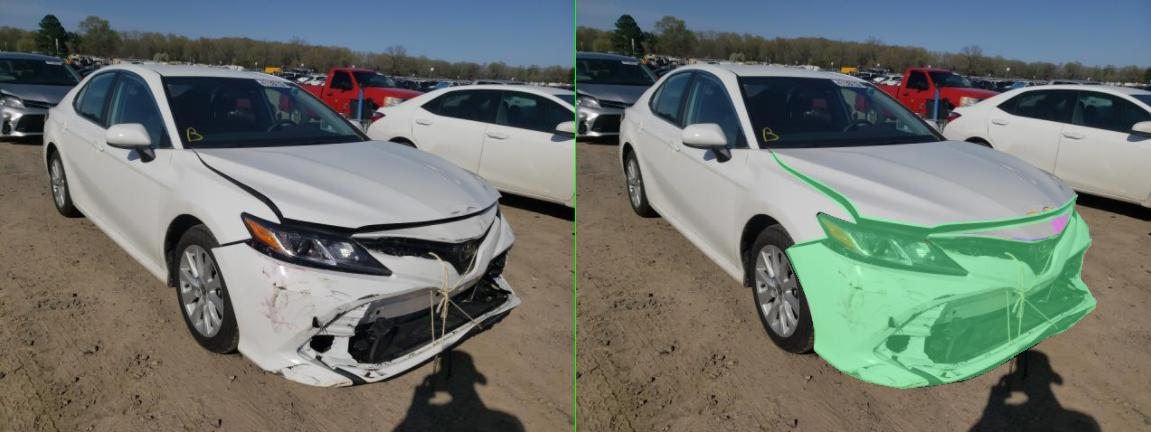Broken part: (418, 206, 1039, 388), (390, 152, 1003, 241), (480, 213, 789, 276)
Corrosion: (627, 377, 707, 387), (534, 368, 570, 376)
Dent: (925, 213, 1023, 285), (951, 212, 981, 232)
Missing part: (695, 240, 1031, 365), (697, 202, 1003, 276), (619, 334, 671, 352)
Paint chip: (649, 311, 695, 329), (568, 363, 621, 372), (713, 293, 761, 302), (623, 315, 645, 328), (725, 371, 755, 379), (657, 382, 697, 387), (615, 375, 643, 382), (749, 370, 773, 377), (685, 364, 715, 368), (735, 368, 761, 372), (903, 209, 919, 215), (556, 285, 574, 290), (935, 206, 951, 210), (544, 282, 554, 287)
Scratch: (518, 256, 613, 272), (528, 287, 560, 324), (558, 291, 579, 310), (570, 281, 621, 288), (665, 290, 705, 297), (653, 295, 689, 302), (593, 303, 617, 313), (873, 238, 943, 241), (522, 271, 544, 278), (597, 290, 623, 295), (623, 305, 633, 311), (645, 278, 659, 281), (677, 308, 689, 311), (647, 278, 661, 280)
